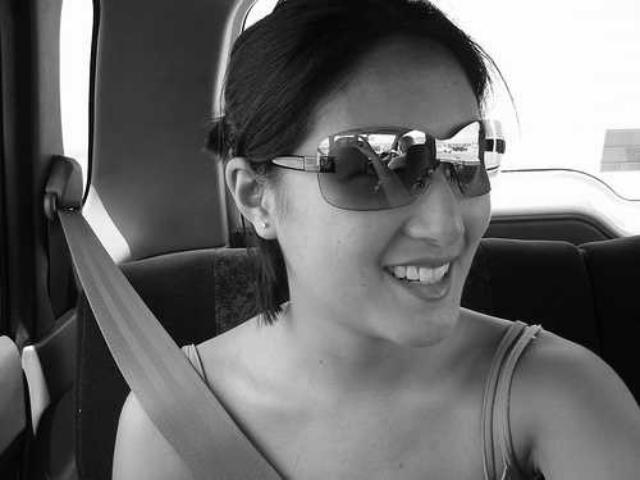Seatbelt: (41, 154, 292, 480)
